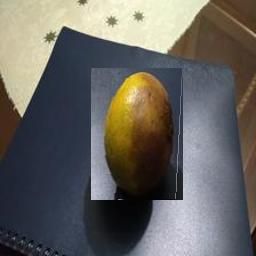Orange Semirotten: (92, 68, 184, 200)
